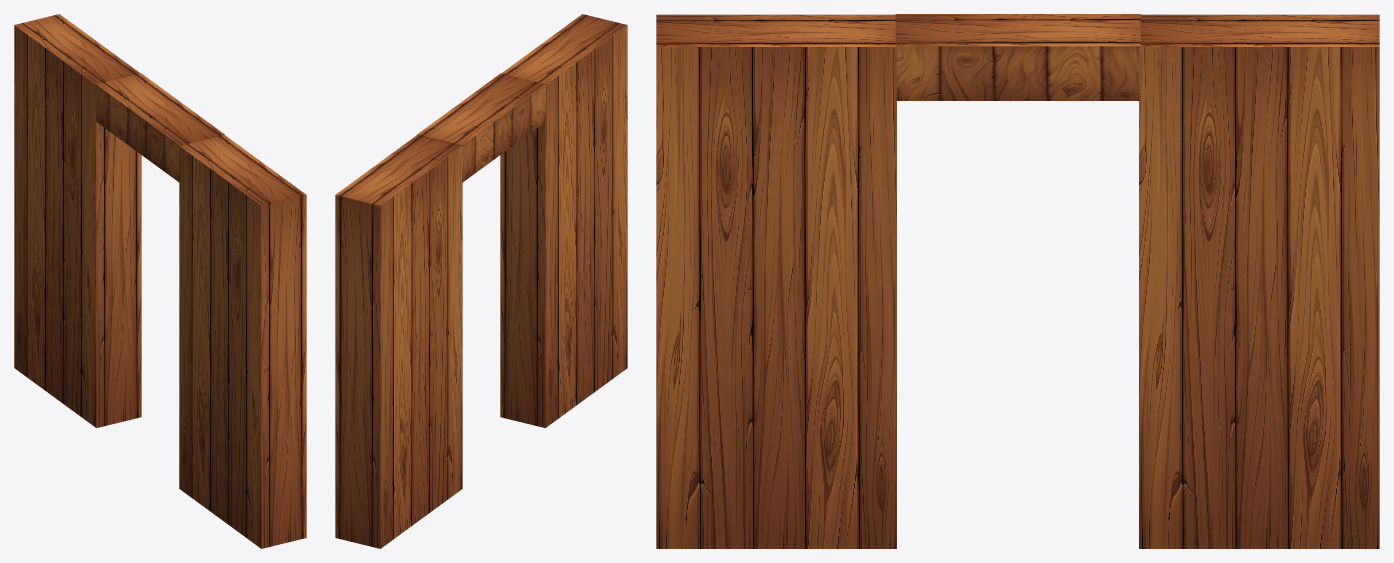
File: woodDoorWay.glb
The picture shows the model from 3 angles, left to right: view 1: azimuth 30°, elevation 25°; view 2: azimuth 150°, elevation 25°; view 3: azimuth 270°, elevation 25°; orthographic projection. The views are drawn at different scales.
Parts seen in each view (by area): view 1: Cube.001, Cube.003, Cube.002; view 2: Cube.003, Cube.001, Cube.002; view 3: Cube.001, Cube.003, Cube.002.
Part boxes in pixels (x1=…): Cube.001: x1=179, y1=135, x2=306, y2=548; Cube.003: x1=14, y1=14, x2=141, y2=427; Cube.002: x1=96, y1=73, x2=224, y2=182; Cube.003: x1=335, y1=135, x2=462, y2=548; Cube.001: x1=500, y1=14, x2=627, y2=427; Cube.002: x1=417, y1=73, x2=545, y2=182; Cube.001: x1=656, y1=14, x2=896, y2=548; Cube.003: x1=1139, y1=14, x2=1379, y2=548; Cube.002: x1=895, y1=14, x2=1140, y2=100.
Size of the model in its own units: 0.0887 by 0.6434 by 0.839.
Materials: 3 (3 with a texture image).
